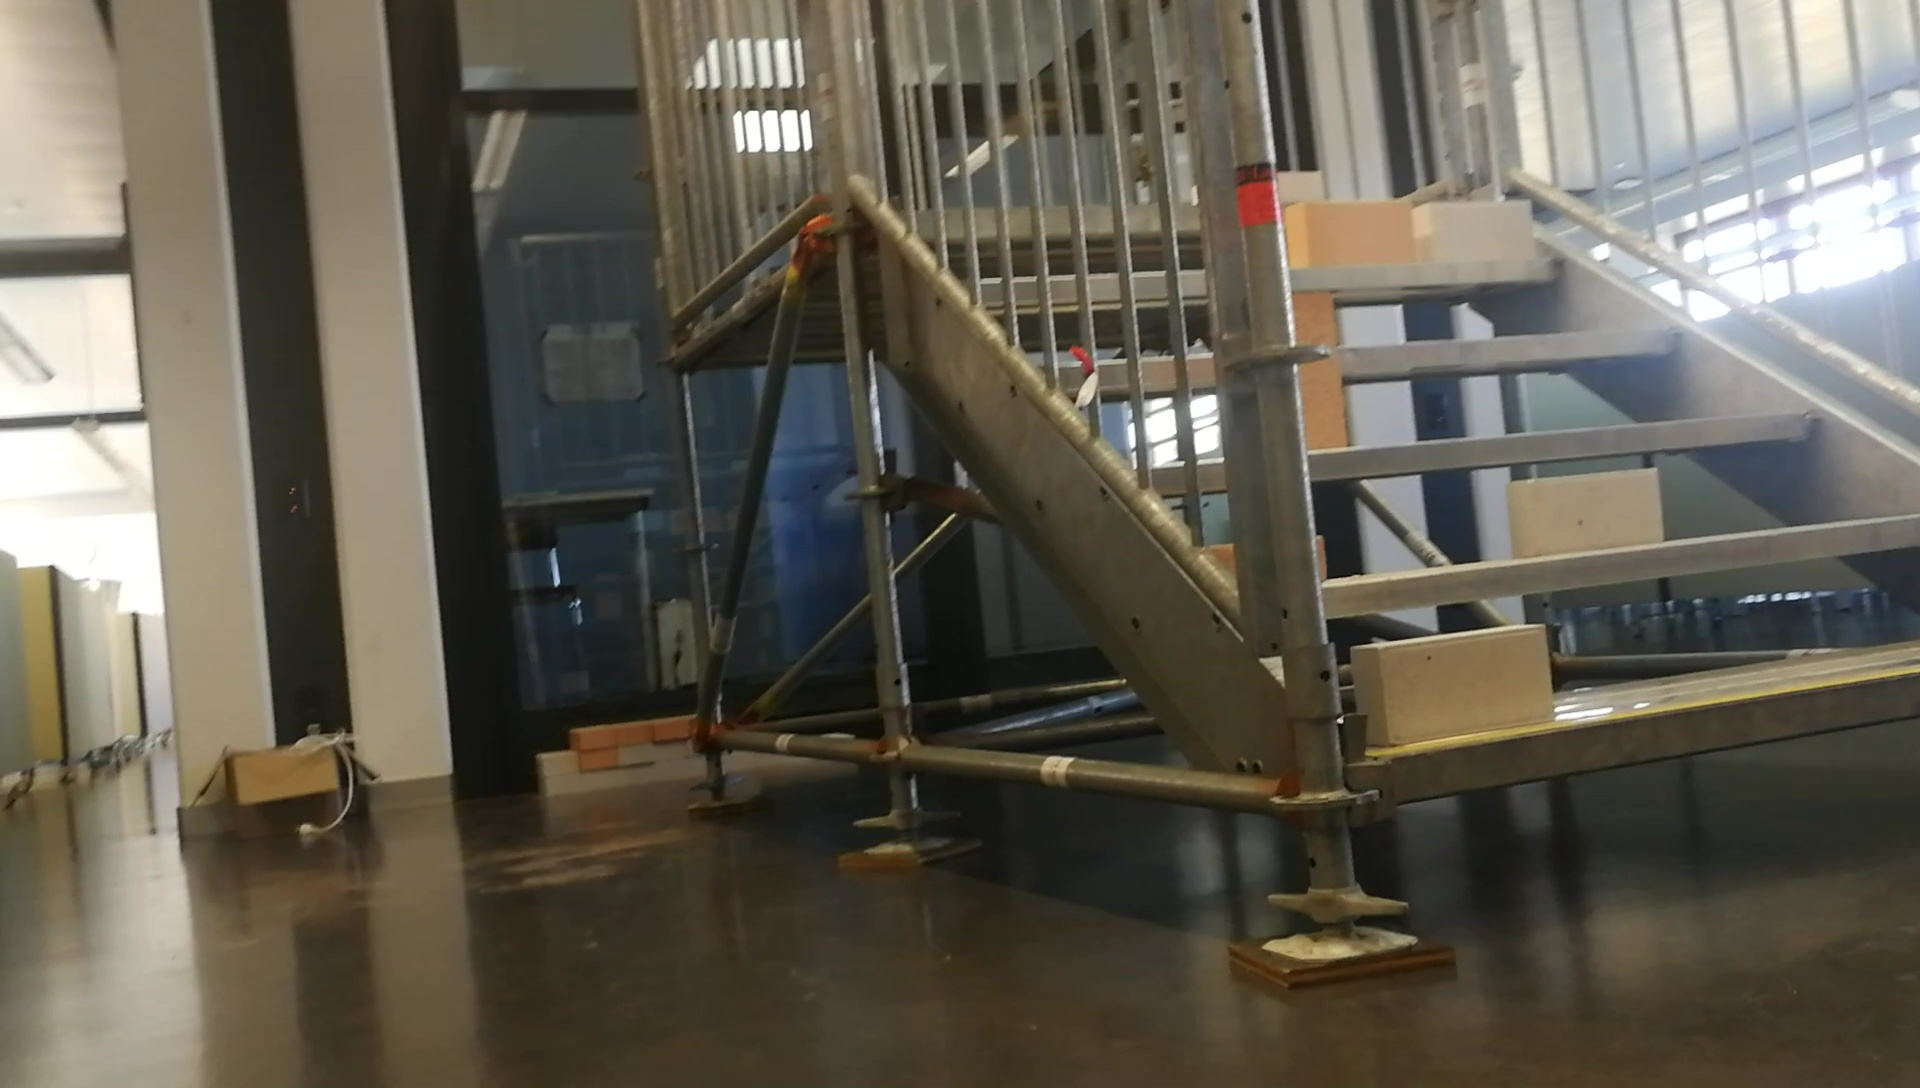brick: (1352, 628, 1548, 750), (1510, 471, 1660, 560), (1286, 203, 1408, 276), (1415, 200, 1528, 270), (1294, 295, 1342, 448), (1279, 170, 1323, 198)
edge: (1398, 661, 1913, 804), (1323, 516, 1920, 622)
stairs: (1255, 7, 1915, 982)
